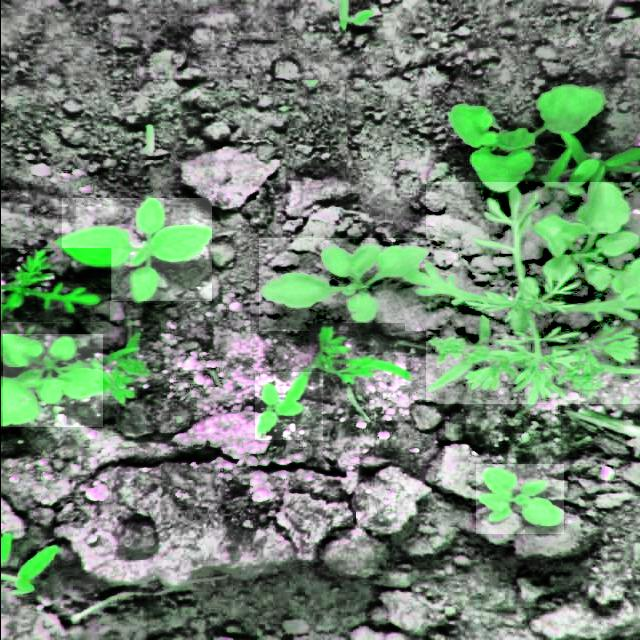Weeds: (58, 198, 210, 301), (258, 238, 426, 331), (2, 334, 102, 427), (475, 464, 563, 534), (254, 372, 322, 440)
undefined: (425, 182, 640, 404), (1, 248, 109, 322), (309, 323, 404, 397)
